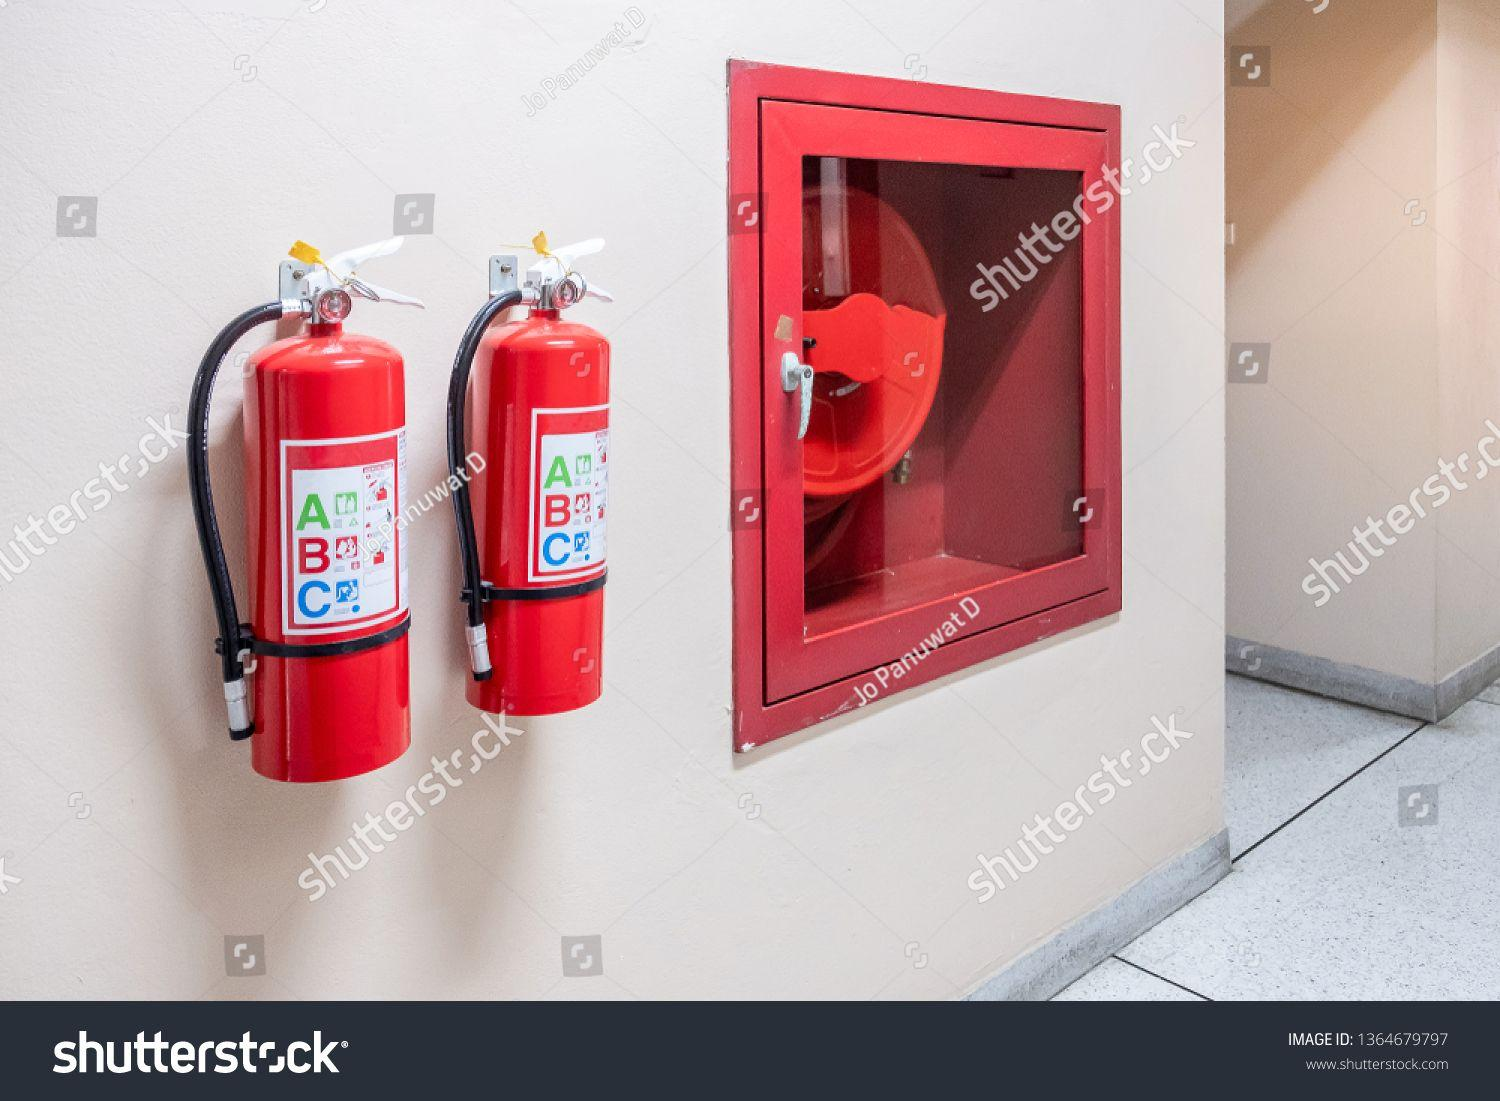cabinet: (726, 55, 1126, 762)
hose: (793, 183, 944, 592)
wall-mounted: (123, 189, 423, 804), (436, 204, 642, 768)
